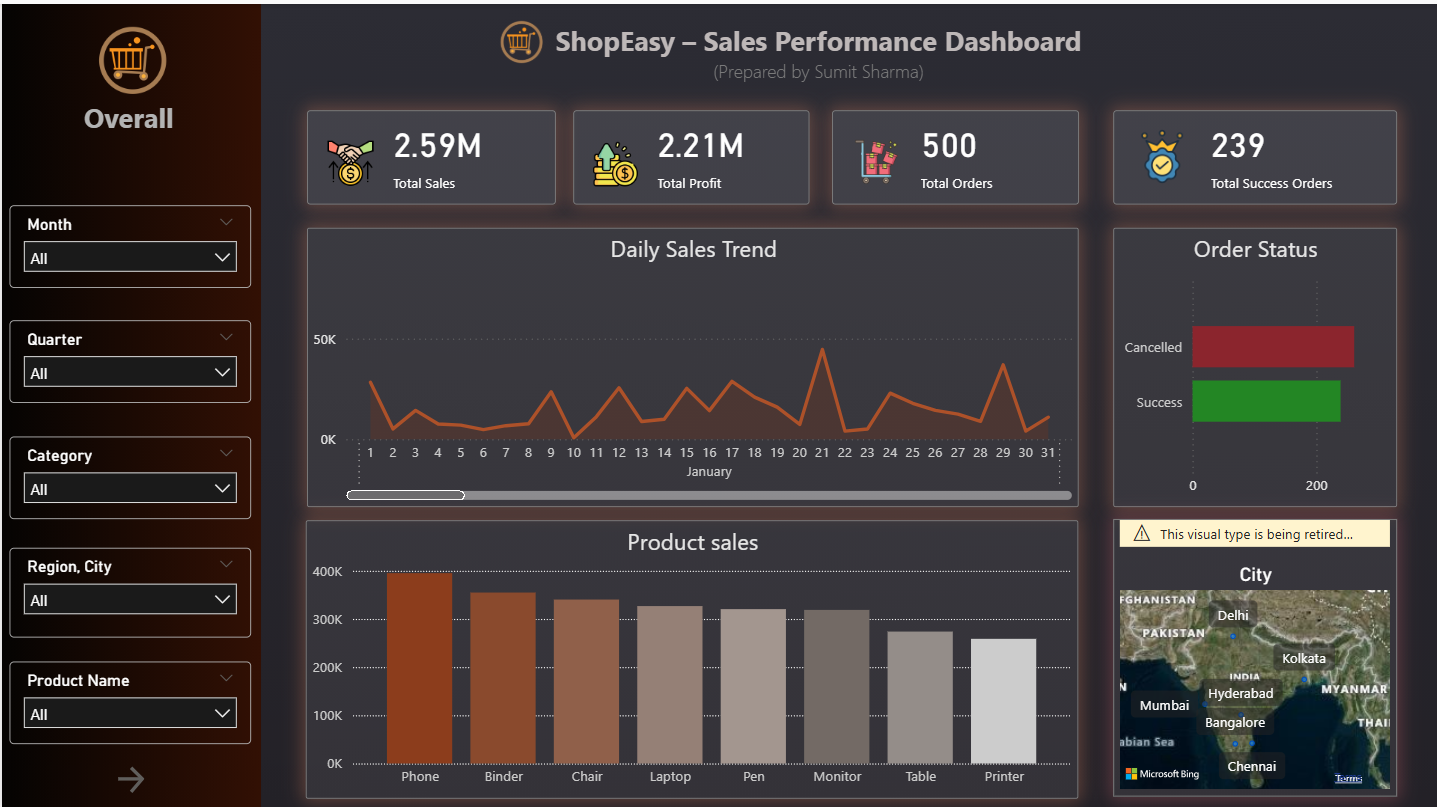

What the dashboard file says about the page in this screenshot:
{"tool":"powerbi","page":{"name":"Page 1","canvas":[1280,720],"ordinal":0},"visuals":[{"type":"textbox","box":[484.4,11,485.8,68.6],"z":0},{"type":"image","box":[431.2,2.5,61.2,61.2],"z":1000},{"type":"slicer","fields":{"Values":["Sheet1.Order Date.Variation.Date Hierarchy.Month"]},"box":[6.8,179,215,73.8],"z":2000},{"type":"slicer","fields":{"Values":["Sheet1.Order Date.Variation.Date Hierarchy.Quarter"]},"box":[6.8,281.5,215,73.8],"z":3000},{"type":"slicer","fields":{"Values":["Sheet1.Category"]},"box":[6.8,385.3,215,73.8],"z":4000},{"type":"slicer","fields":{"Values":["Sheet1.Region","Sheet1.City"]},"box":[6.8,484,215,80],"z":5000},{"type":"slicer","fields":{"Values":["Sheet1.Product Name"]},"box":[6.8,585.3,215,73.8],"z":6000},{"type":"image","box":[67.5,2.5,92.5,92.5],"z":7000},{"type":"cardVisual","fields":{"Data":["Sum(Sheet1.Sales Amount)"]},"box":[270.9,95.3,222.1,83.7],"z":8000},{"type":"cardVisual","fields":{"Data":["Sum(Sheet1.Profit)"]},"box":[508.8,95,210,83.8],"z":9000},{"type":"cardVisual","fields":{"Data":["Count(Sheet1.Order ID)"]},"box":[738.8,95,220,83.8],"z":10000},{"type":"cardVisual","fields":{"Data":["Sheet1.Total Success Orders"]},"box":[990,95,252.5,83.8],"z":11000},{"type":"lineChart","title":"Daily Sales Trend","fields":{"Y":["Sum(Sheet1.Sales Amount)"],"Category":["Sheet1.Order Date.Variation.Date Hierarchy.Month","Sheet1.Order Date.Variation.Date Hierarchy.Day"]},"box":[271.2,198.8,687.5,248.8],"z":12000},{"type":"barChart","title":"Order Status","fields":{"Category":["Sheet1.Order Status"],"Y":["CountNonNull(Sheet1.Order Status)"]},"box":[990,198.8,252.5,248.8],"z":13000},{"type":"map","fields":{"Category":["Sheet1.City"]},"box":[990,458.8,252.5,247.5],"z":14000},{"type":"columnChart","title":"Product sales","fields":{"Category":["Sheet1.Product Name"],"Y":["Sum(Sheet1.Sales Amount)"]},"box":[271,460,688,248],"z":15000},{"type":"textbox","box":[22.5,80,181.2,51.2],"z":16000},{"type":"actionButton","box":[97.5,675,32.5,32.5],"z":17000}]}

Visuals, with their boxes in screenshot pixels (x1, y1, x2, y2), scaled from the page's 1280x720 canvas onto the 1437x807 screenshot:
textbox: [544, 12, 1089, 89]
image: [484, 3, 553, 71]
slicer - Sheet1.Order Date.Variation.Date Hierarchy.Month: [8, 201, 249, 283]
slicer - Sheet1.Order Date.Variation.Date Hierarchy.Quarter: [8, 316, 249, 398]
slicer - Sheet1.Category: [8, 432, 249, 515]
slicer - Sheet1.Region x Sheet1.City: [8, 542, 249, 632]
slicer - Sheet1.Product Name: [8, 656, 249, 739]
image: [76, 3, 180, 106]
cardVisual - Sum(Sheet1.Sales Amount): [304, 107, 553, 201]
cardVisual - Sum(Sheet1.Profit): [571, 106, 807, 200]
cardVisual - Count(Sheet1.Order ID): [829, 106, 1076, 200]
cardVisual - Sheet1.Total Success Orders: [1111, 106, 1395, 200]
"Daily Sales Trend" lineChart: [304, 223, 1076, 502]
"Order Status" barChart: [1111, 223, 1395, 502]
map - Sheet1.City: [1111, 514, 1395, 792]
"Product sales" columnChart: [304, 516, 1077, 794]
textbox: [25, 90, 229, 147]
actionButton: [109, 757, 146, 793]
